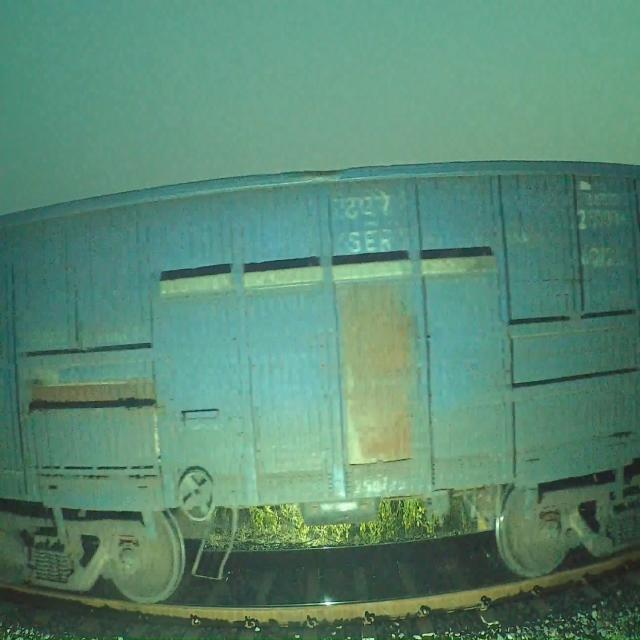WAgon-uic: (0, 158, 638, 602), (573, 204, 636, 270)
